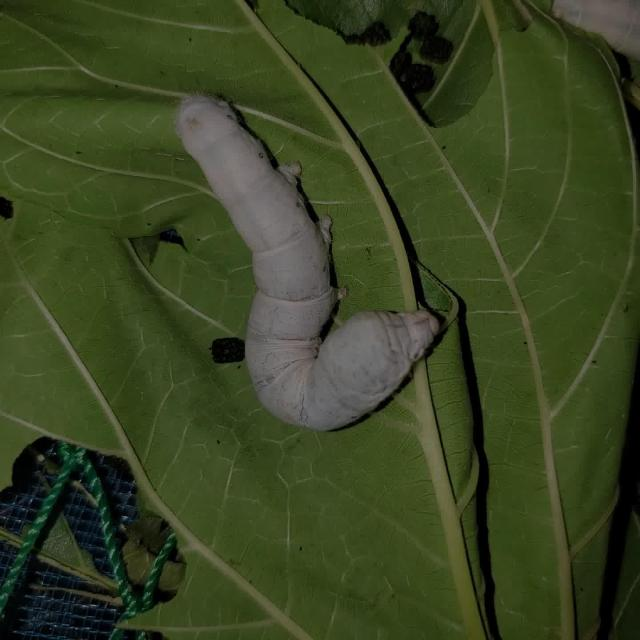Healthy: (163, 80, 447, 437)
